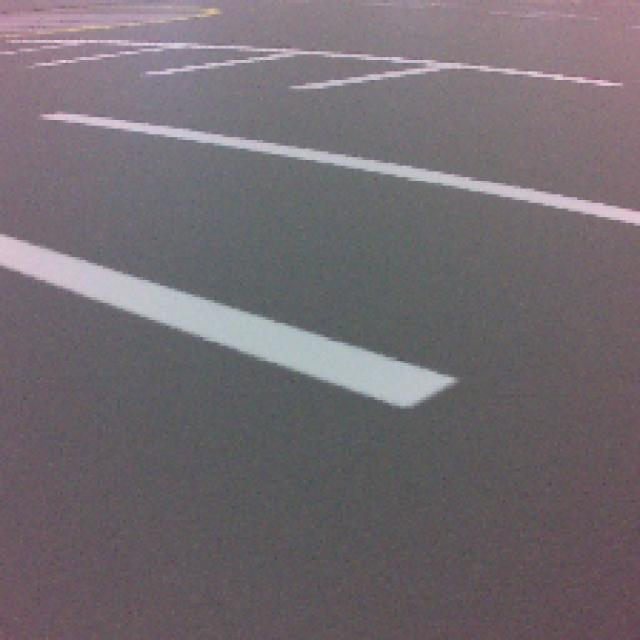Pedestrian crosswalk: (4, 237, 456, 407)
